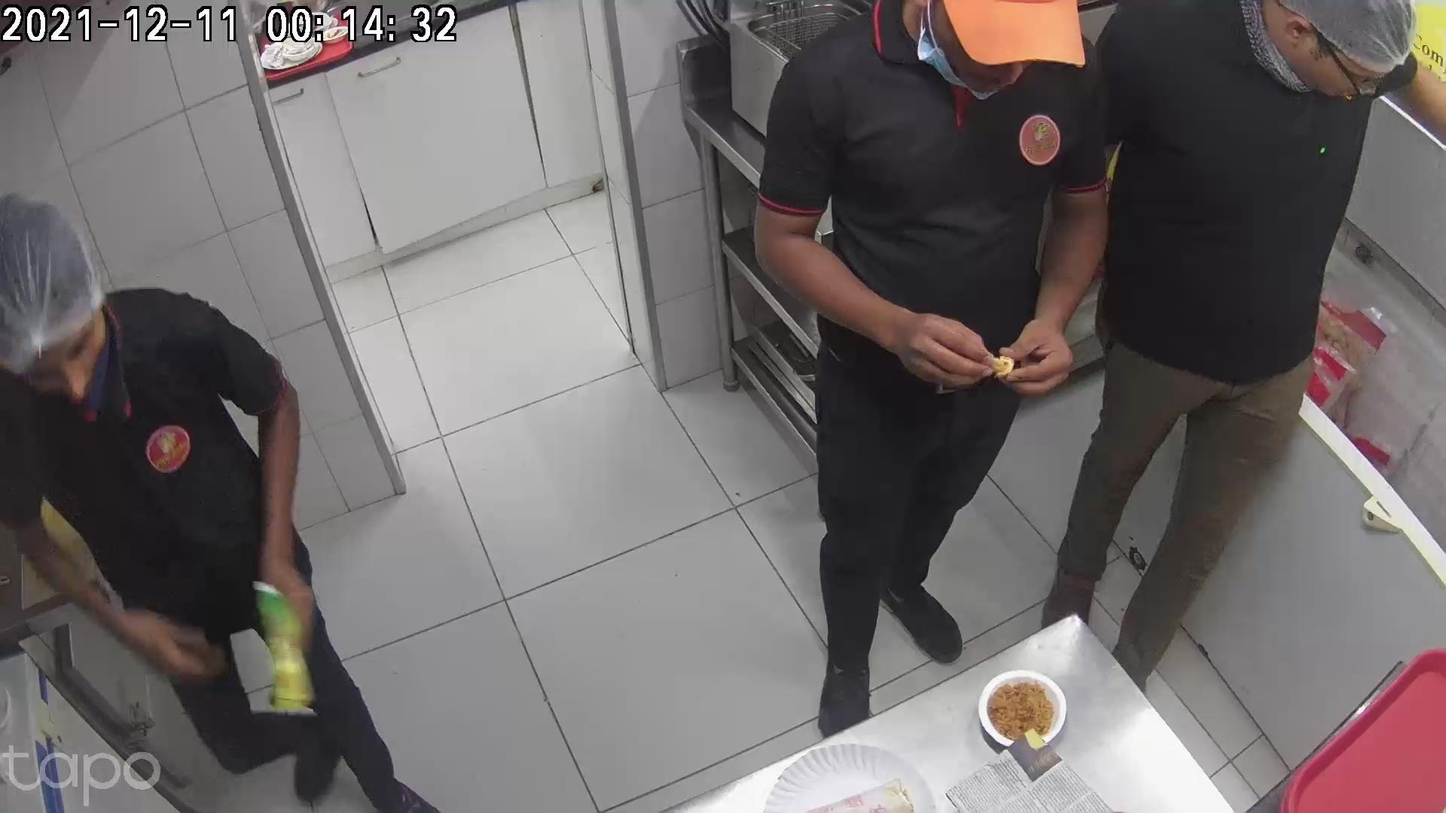gloves: (803, 672, 890, 812)
